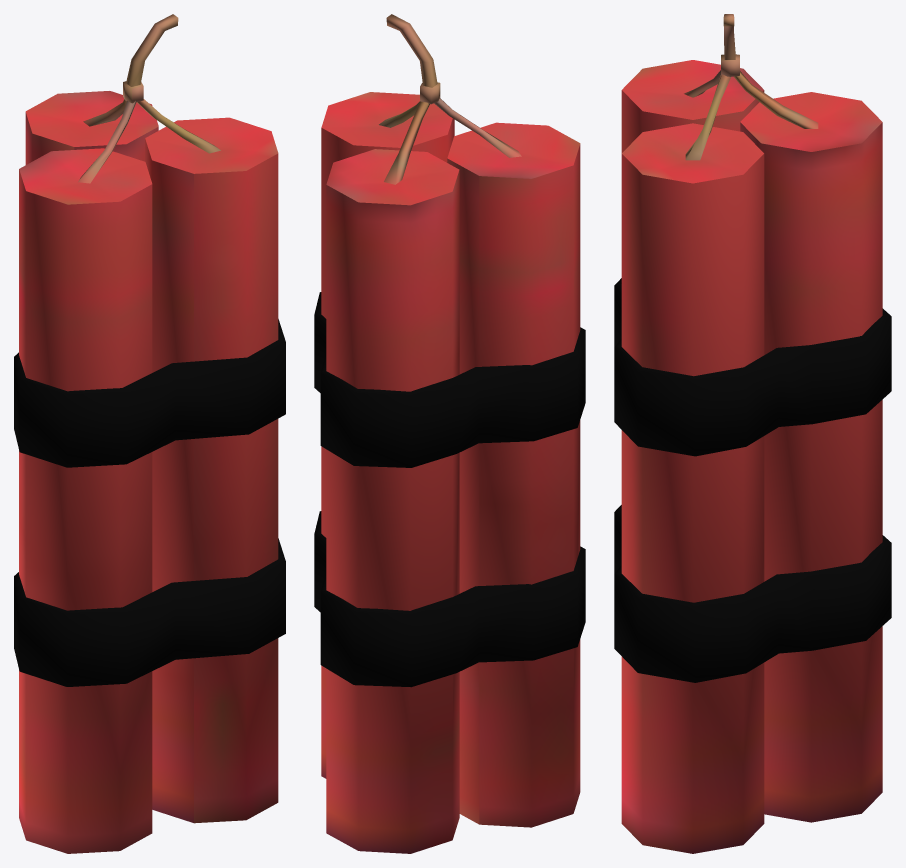
The model's file is Dinamite_Maco.fbx.
3 renders of one model, left to right at view 1: azimuth 30°, elevation 25°; view 2: azimuth 150°, elevation 25°; view 3: azimuth 270°, elevation 25°, orthographic. The views are drawn at different scales.
Parts seen in each view (by area): view 1: Dinamite.Maco; view 2: Dinamite.Maco; view 3: Dinamite.Maco.
Part boxes in pixels (x1,y1,x2,y2): Dinamite.Maco: [14, 14, 285, 853]; Dinamite.Maco: [314, 14, 585, 853]; Dinamite.Maco: [614, 14, 891, 853].
Size of the model in its own units: 14.27 by 40.73 by 12.85.
